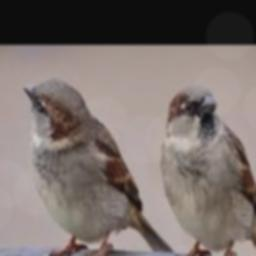Sparrow: (23, 78, 176, 256), (159, 83, 256, 256)
